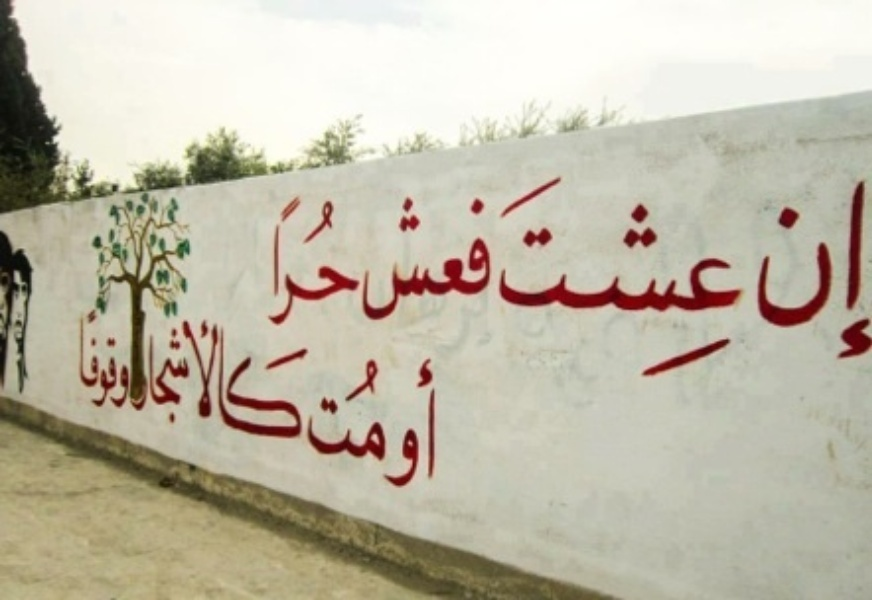text: (513, 172, 528, 377), (529, 172, 544, 377), (545, 172, 560, 377), (561, 172, 576, 377), (577, 172, 592, 377), (593, 172, 608, 377), (609, 172, 624, 377), (625, 172, 640, 377), (641, 172, 656, 377), (657, 172, 672, 377), (673, 172, 688, 377), (689, 172, 704, 377), (705, 172, 720, 377), (721, 172, 736, 377), (785, 180, 800, 370), (801, 180, 816, 370), (817, 180, 832, 370), (833, 180, 848, 370), (849, 180, 864, 370), (500, 172, 512, 377), (385, 356, 400, 490), (401, 356, 416, 490), (417, 356, 432, 490), (433, 356, 448, 490), (369, 192, 384, 322), (385, 192, 400, 322), (401, 192, 416, 322), (417, 192, 432, 322), (433, 192, 448, 322), (449, 192, 464, 322), (465, 192, 480, 322), (273, 196, 288, 326), (289, 196, 304, 326), (305, 196, 320, 326), (321, 196, 336, 326), (337, 196, 352, 326), (774, 180, 784, 370), (145, 316, 160, 441), (161, 316, 176, 441), (177, 316, 192, 441), (193, 316, 208, 441), (209, 316, 224, 441), (225, 316, 240, 441), (241, 316, 256, 441), (257, 316, 272, 441), (273, 316, 288, 441), (289, 316, 304, 441), (737, 172, 746, 377), (131, 316, 144, 441), (113, 308, 129, 409), (321, 358, 336, 462), (337, 358, 352, 462), (353, 358, 368, 462), (369, 358, 384, 462), (81, 308, 96, 409), (97, 308, 112, 409), (306, 358, 320, 462), (481, 192, 490, 322), (865, 180, 871, 370), (360, 192, 368, 322), (353, 196, 360, 326), (267, 196, 272, 326), (385, 358, 391, 462), (75, 308, 80, 409), (449, 356, 452, 490), (383, 356, 384, 490), (305, 316, 306, 441)
